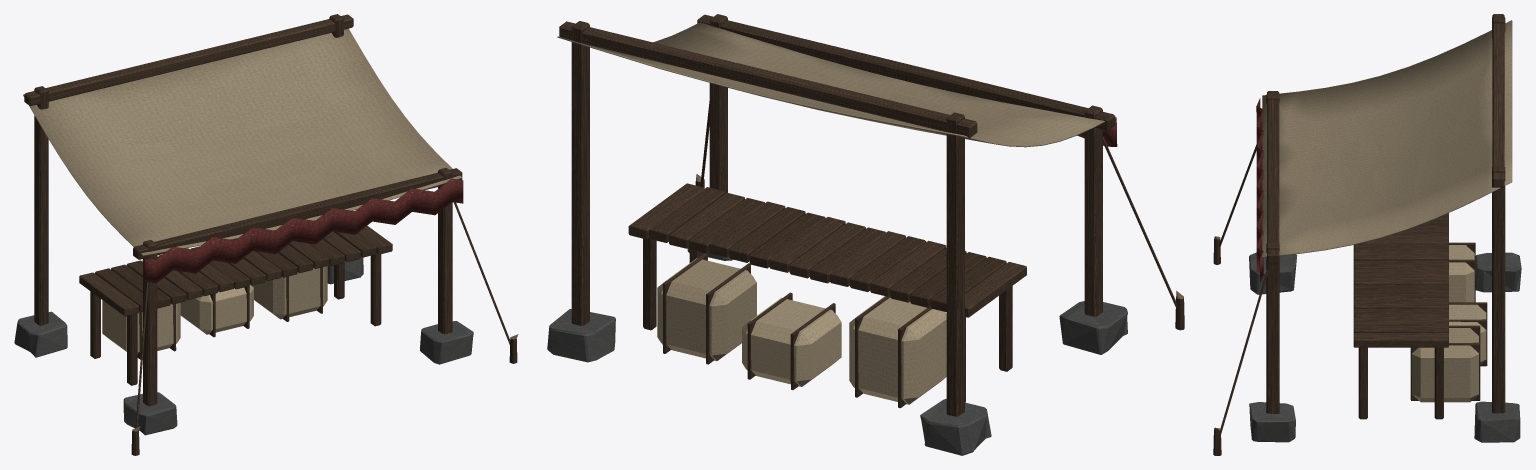
Rendered from barrosan_supply_awning_lod1.glb.
3 views of the same model, side by side, from view 1: azimuth 30°, elevation 25°; view 2: azimuth 150°, elevation 25°; view 3: azimuth 270°, elevation 25° (orthographic). The views are drawn at different scales.
Parts seen in each view (by area): view 1: barrosan_supply_awning; view 2: barrosan_supply_awning; view 3: barrosan_supply_awning.
Part boxes in pixels (<box>): barrosan_supply_awning: <box>14,14,518,455</box>; barrosan_supply_awning: <box>547,14,1184,455</box>; barrosan_supply_awning: <box>1213,14,1521,455</box>.
Size of the model in its own units: 5.22 by 3.33 by 3.49.
Materials: 5 (4 with a texture image).
